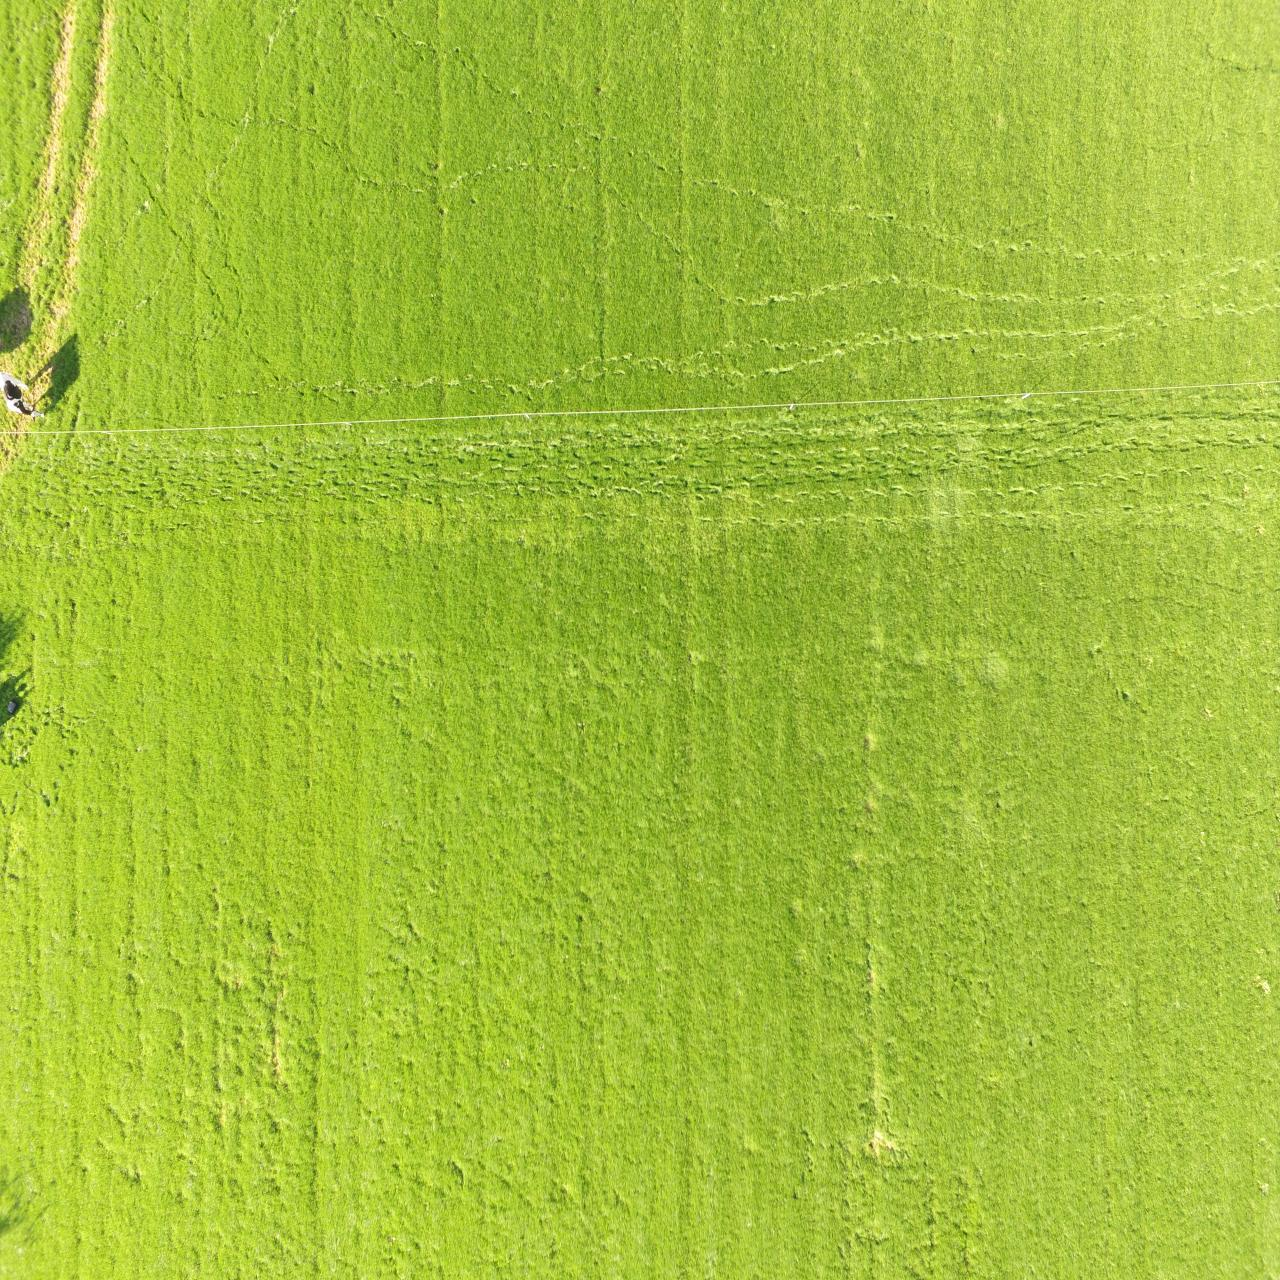cow: (0, 370, 47, 417)
